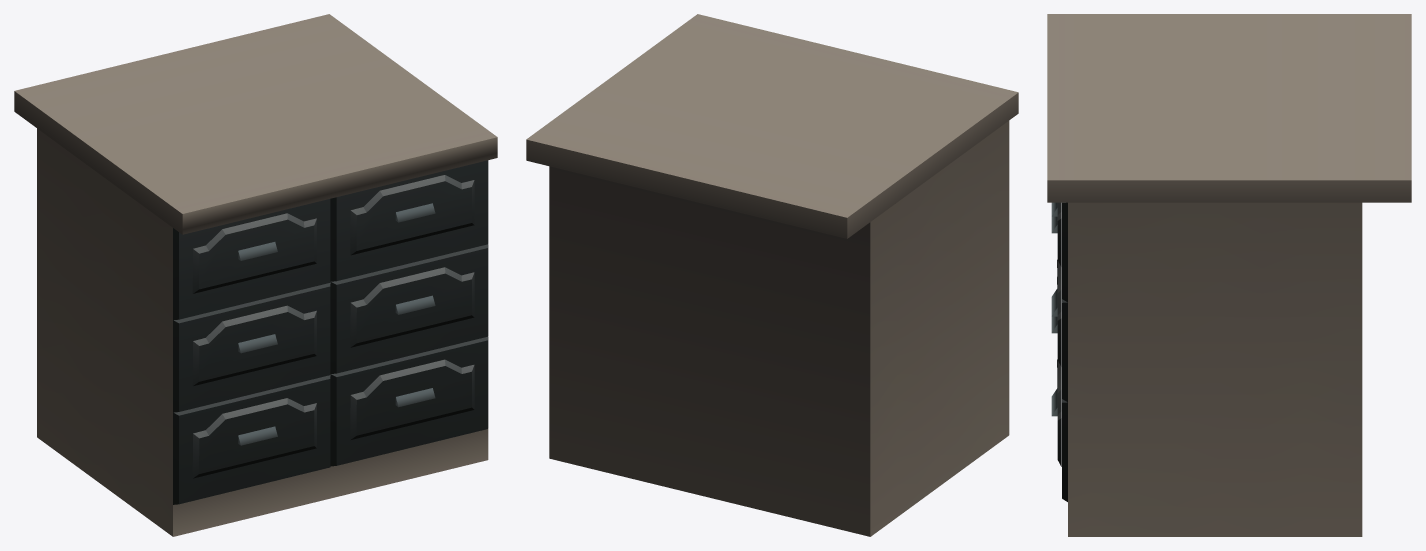
Rendered from TSP_Kitchen_Cabinet_05A.fbx.
3 renders of one model, left to right at view 1: azimuth 30°, elevation 25°; view 2: azimuth 150°, elevation 25°; view 3: azimuth 270°, elevation 25°, orthographic. The views are drawn at different scales.
Parts seen in each view (by area): view 1: TSP_Kitchen_Cabinet_05A, TSP_Kitchen_Cabinet_05A_Drawer.R, TSP_Kitchen_Cabinet_05A_Drawer.L; view 2: TSP_Kitchen_Cabinet_05A; view 3: TSP_Kitchen_Cabinet_05A, TSP_Kitchen_Cabinet_05A_Drawer.R.
Boxes of the visible parts, x1,y1,x2,y2 form: TSP_Kitchen_Cabinet_05A: [14, 14, 497, 536]; TSP_Kitchen_Cabinet_05A_Drawer.R: [330, 160, 488, 281]; TSP_Kitchen_Cabinet_05A_Drawer.L: [173, 198, 330, 320]; TSP_Kitchen_Cabinet_05A: [526, 14, 1018, 536]; TSP_Kitchen_Cabinet_05A: [1047, 14, 1411, 536]; TSP_Kitchen_Cabinet_05A_Drawer.R: [1051, 202, 1067, 302].
Size of the model in its own units: 1 by 1 by 0.925.
